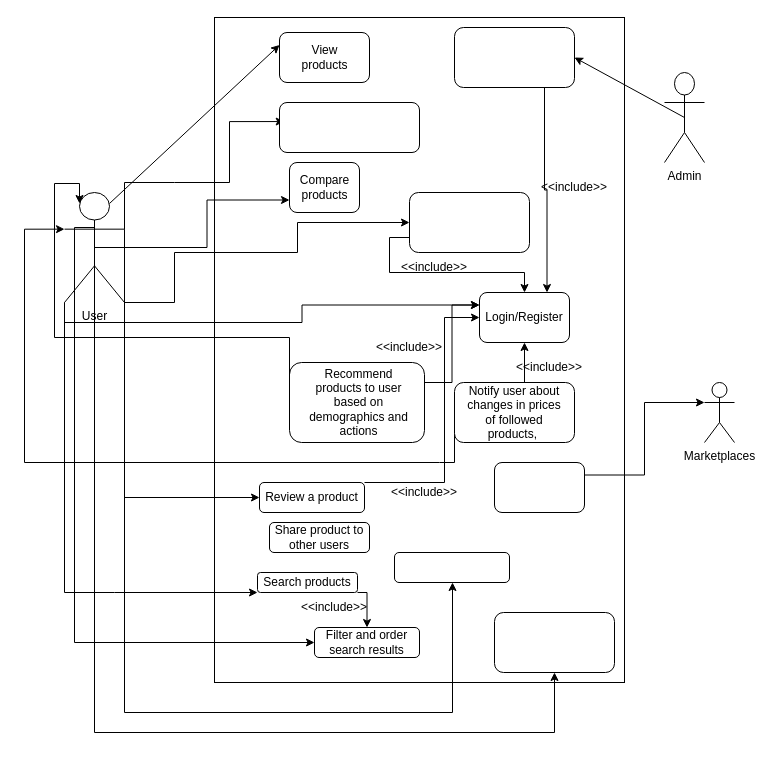
The diagram is 772 pixels wide and 758 high, and some of its shapes have lost their labels. The centre of each missing label's shape, as x and y in pixels:
Add/Delete/Modify products: pixel 514 57
Collect data about products: pixel 539 487
Customize the main dashboard: pixel 452 567
Mark as favourite/Follow product: pixel 469 222
View charts/graphs regarding products statistics: pixel 349 127
Visit the website of the shop who's listed the product: pixel 554 642
